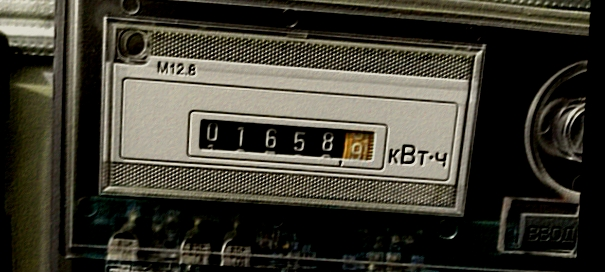0: (205, 121, 219, 144)
1: (235, 126, 246, 148)
5: (291, 130, 307, 154)
6: (263, 128, 278, 150)
8: (319, 131, 335, 153)
9: (347, 141, 362, 163)
screen: (180, 105, 395, 177)
